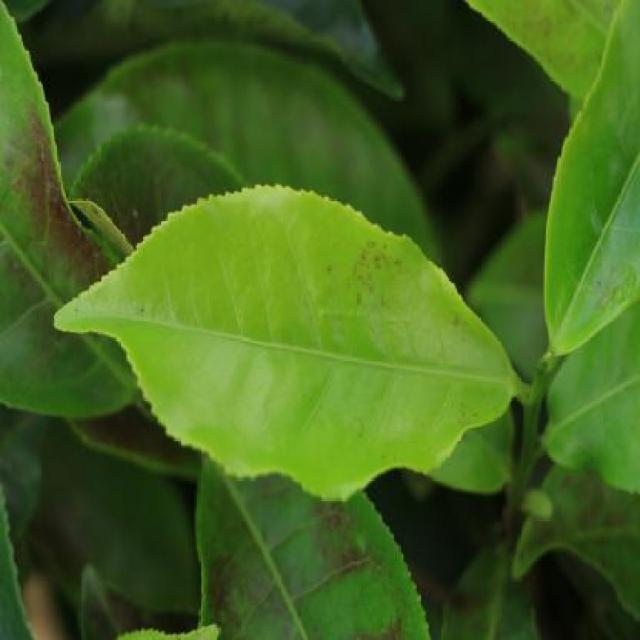Red Spider infested tea leaf: (266, 210, 551, 492), (2, 75, 183, 488)
